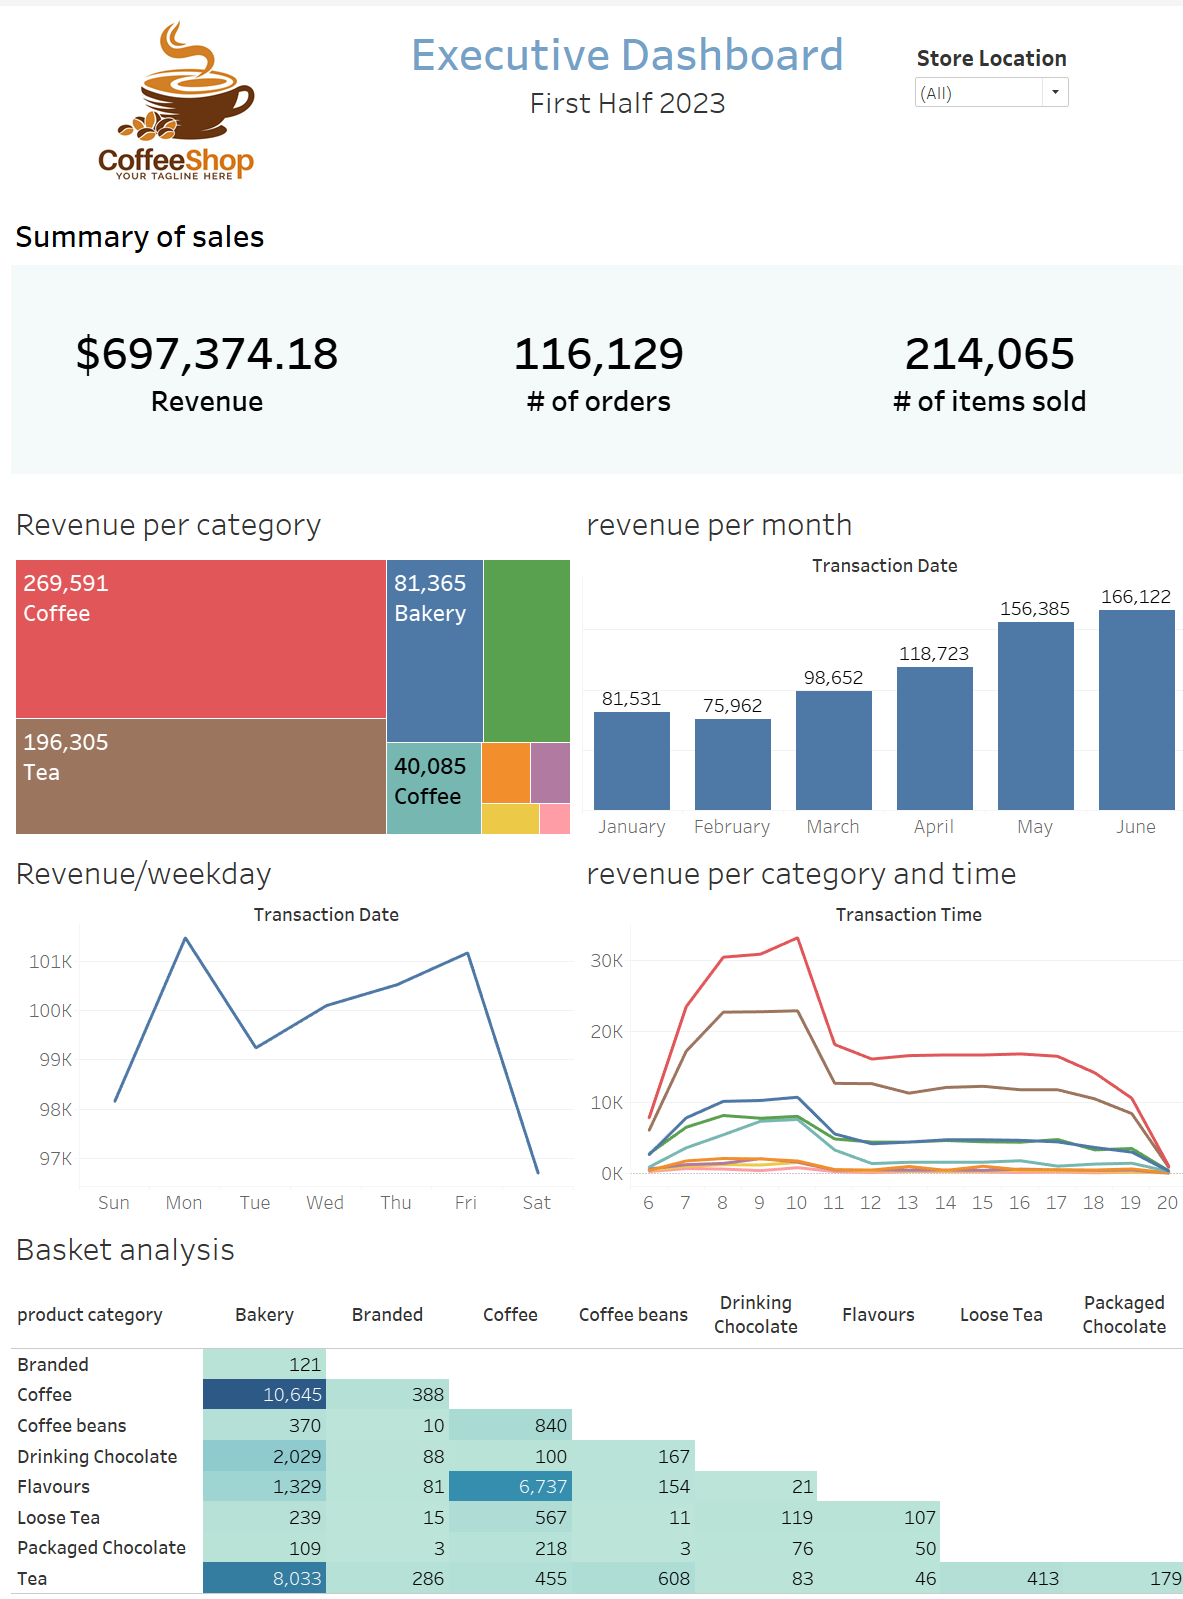

Layout of this report page (visuals, bound fields, positions):
{"tool":"tableau","page":{"name":"Dashboard","canvas":[1000,1600],"ordinal":0},"visuals":[{"type":"image","param":"Image/cofe.jpg","box":[8,8,340,192]},{"type":"worksheet","title":"Sheet 9","mark":"Automatic","box":[348,8,561,192]},{"type":"filter","title":"Sheet 9","param":"[federated.1ajmgux1udw1q71e67cf70lg7ojm].[none:store_location:nk]","box":[909,8,83,192]},{"type":"worksheet","title":"Headband","mark":"Automatic","box":[8,200,984,288]},{"type":"worksheet","title":"Revenue per category","mark":"Automatic","box":[8,488,474.8,349]},{"type":"worksheet","title":"revenue per month","mark":"Bar","rows":["revenue"],"cols":["transaction_date"],"box":[482.8,488,509.2,349]},{"type":"worksheet","title":"Revenue/weekday","mark":"Automatic","rows":["revenue"],"cols":["transaction_date"],"box":[8,837,474.8,376]},{"type":"worksheet","title":"revenue per category and time","mark":"Line","rows":["revenue"],"cols":["transaction_time"],"box":[482.8,837,509.2,376]},{"type":"worksheet","title":"Basket analysis","mark":"Square","rows":["product_category (Order_id.csv1)"],"cols":["product_category (Order_id.csv)"],"box":[8,1213,984,379]}]}

Visuals, with their boxes on the page's 1000x1600 design canvas (x1, y1, x2, y2). These are canvas units, not pixel positions in the 1183x1599 screenshot, which may show the page scaled, cropped or inside an application window:
image: 8/8/348/200
"Sheet 9" worksheet: 348/8/909/200
"Sheet 9" filter: 909/8/992/200
"Headband" worksheet: 8/200/992/488
"Revenue per category" worksheet: 8/488/483/837
"revenue per month" worksheet (Bar marks): 483/488/992/837
"Revenue/weekday" worksheet: 8/837/483/1213
"revenue per category and time" worksheet (Line marks): 483/837/992/1213
"Basket analysis" worksheet (Square marks): 8/1213/992/1592
